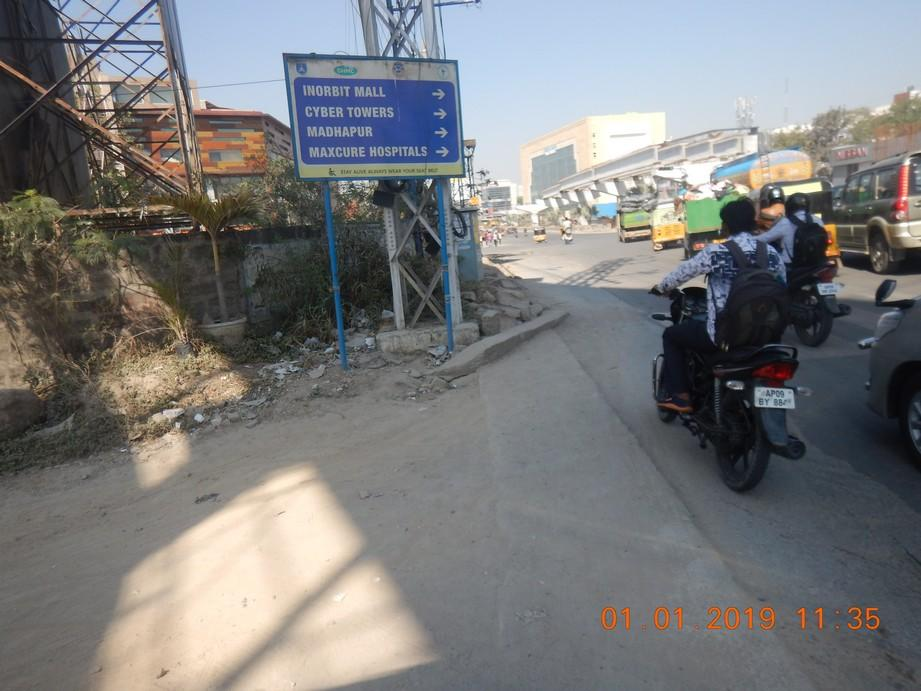plate: (753, 386, 798, 411)
